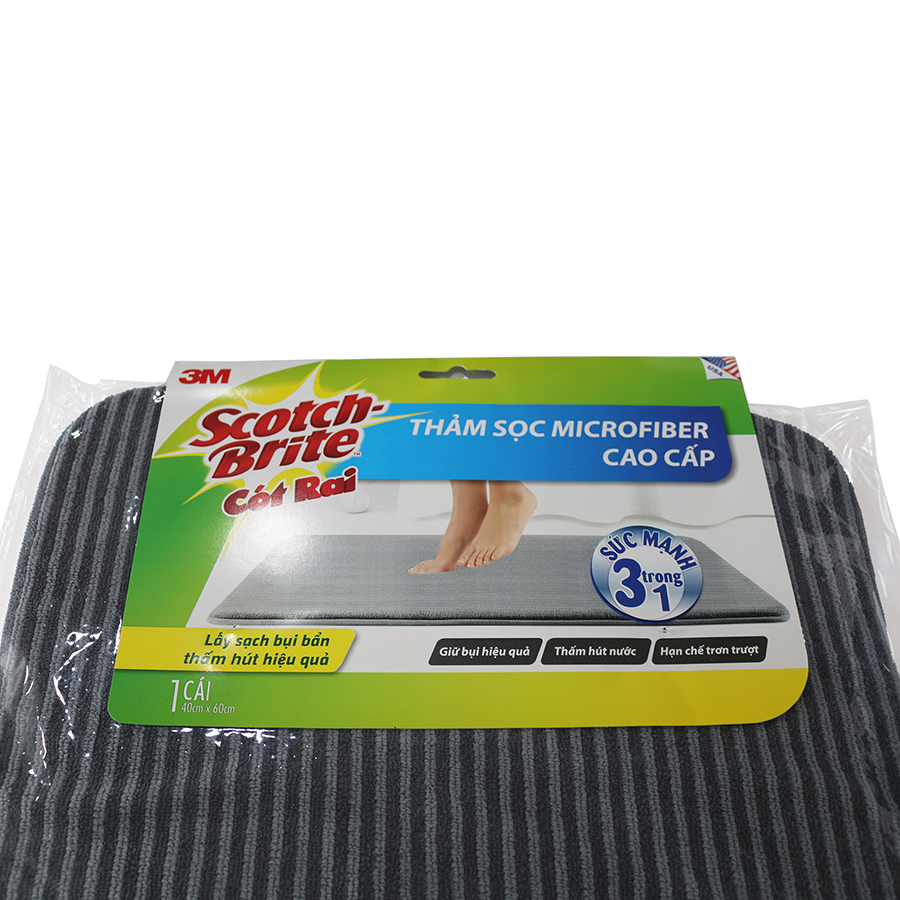3M: (177, 362, 233, 390)
